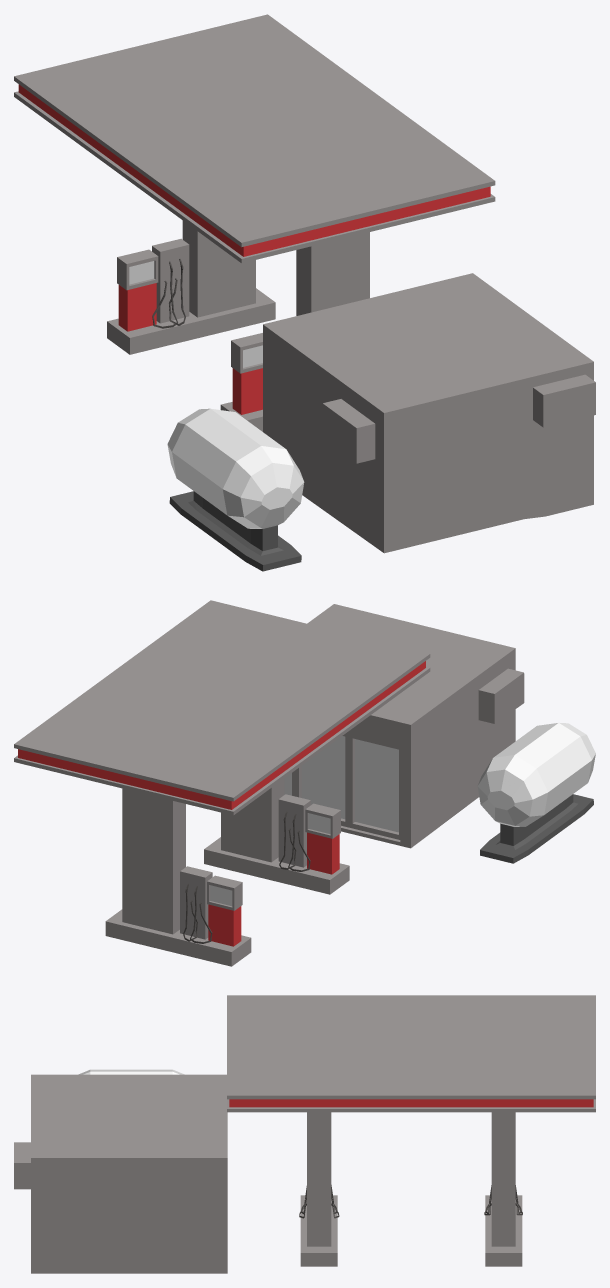
File: prop_CPN.fbx
3 renders of one model, top to bottom at view 1: azimuth 30°, elevation 25°; view 2: azimuth 150°, elevation 25°; view 3: azimuth 270°, elevation 25°, orthographic. The views are drawn at different scales.
Parts seen in each view (by area): view 1: stacja; view 2: stacja; view 3: stacja.
Boxes of the visible parts, <box> form: stacja: <box>14,14,595,571</box>; stacja: <box>14,600,595,966</box>; stacja: <box>14,995,595,1273</box>.
Bounding box in the file's own units: 1911 × 706 × 1097.
